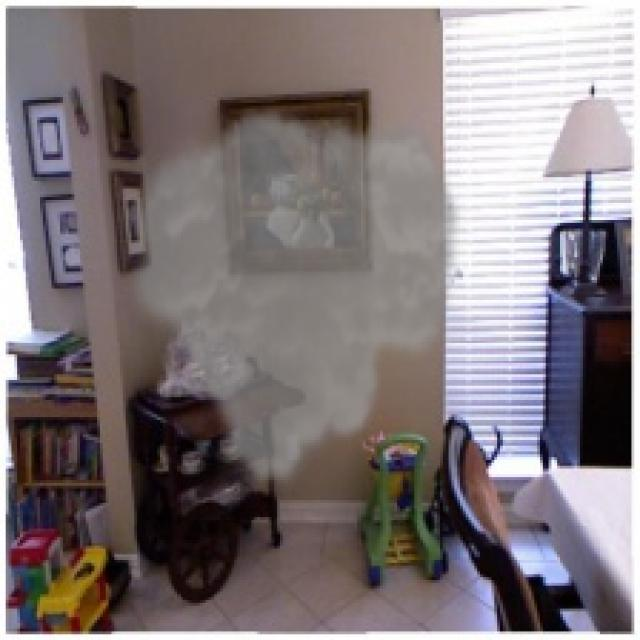smoke: (120, 103, 466, 497)
